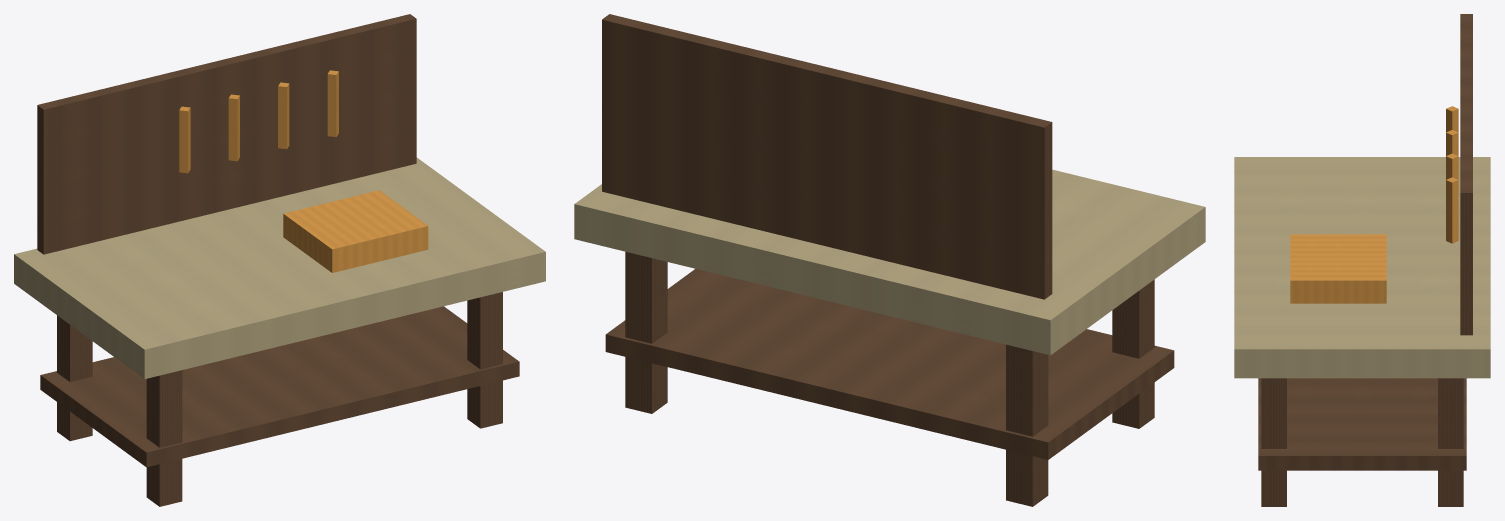
The model's file is atlas100-s020-a06.lod2.glb.
3 renders of one model, left to right at view 1: azimuth 30°, elevation 25°; view 2: azimuth 150°, elevation 25°; view 3: azimuth 270°, elevation 25°, orthographic. The views are drawn at different scales.
Visible parts, largest first — view 1: atlas100-s020-a06:part-004, atlas100-s020-a06:part-006, atlas100-s020-a06:part-005, atlas100-s020-a06:part-012, atlas100-s020-a06:part-001, atlas100-s020-a06:part-003, atlas100-s020-a06:part-000, atlas100-s020-a06:part-008, atlas100-s020-a06:part-010, atlas100-s020-a06:part-009, atlas100-s020-a06:part-011; view 2: atlas100-s020-a06:part-006, atlas100-s020-a06:part-005, atlas100-s020-a06:part-004, atlas100-s020-a06:part-002, atlas100-s020-a06:part-000, atlas100-s020-a06:part-001; view 3: atlas100-s020-a06:part-004, atlas100-s020-a06:part-005, atlas100-s020-a06:part-012, atlas100-s020-a06:part-006, atlas100-s020-a06:part-002, atlas100-s020-a06:part-003, atlas100-s020-a06:part-011, atlas100-s020-a06:part-010, atlas100-s020-a06:part-008, atlas100-s020-a06:part-009.
Boxes of the visible parts, <box> form: atlas100-s020-a06:part-004: <box>14,157,545,379</box>; atlas100-s020-a06:part-006: <box>37,14,416,254</box>; atlas100-s020-a06:part-005: <box>40,306,519,467</box>; atlas100-s020-a06:part-012: <box>283,190,428,272</box>; atlas100-s020-a06:part-001: <box>146,370,182,506</box>; atlas100-s020-a06:part-003: <box>467,292,502,428</box>; atlas100-s020-a06:part-000: <box>57,315,92,441</box>; atlas100-s020-a06:part-008: <box>179,106,190,173</box>; atlas100-s020-a06:part-010: <box>278,82,289,149</box>; atlas100-s020-a06:part-009: <box>228,94,239,161</box>; atlas100-s020-a06:part-011: <box>327,70,338,136</box>; atlas100-s020-a06:part-006: <box>602,14,1052,299</box>; atlas100-s020-a06:part-005: <box>605,269,1174,459</box>; atlas100-s020-a06:part-004: <box>574,169,1205,355</box>; atlas100-s020-a06:part-002: <box>625,251,667,413</box>; atlas100-s020-a06:part-000: <box>1006,344,1048,506</box>; atlas100-s020-a06:part-001: <box>1112,279,1154,428</box>; atlas100-s020-a06:part-004: <box>1234,157,1490,378</box>; atlas100-s020-a06:part-005: <box>1258,378,1466,470</box>; atlas100-s020-a06:part-012: <box>1290,234,1386,303</box>; atlas100-s020-a06:part-006: <box>1460,14,1472,335</box>; atlas100-s020-a06:part-002: <box>1438,378,1463,506</box>; atlas100-s020-a06:part-003: <box>1261,378,1286,506</box>; atlas100-s020-a06:part-011: <box>1446,177,1458,243</box>; atlas100-s020-a06:part-010: <box>1446,153,1458,179</box>; atlas100-s020-a06:part-008: <box>1446,106,1458,132</box>; atlas100-s020-a06:part-009: <box>1446,130,1458,155</box>.
Size of the model in its own units: 2.84 by 2.21 by 1.6.
3 materials, 3 textured.
